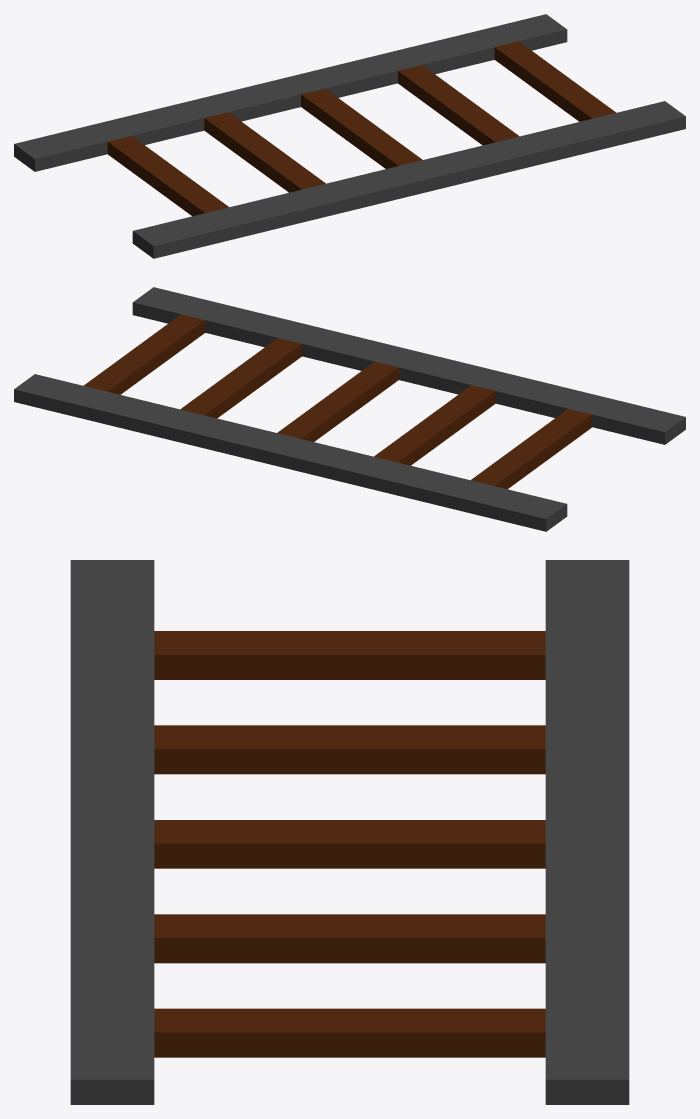
File: trilho-0.obj
The picture shows the model from 3 angles, top to bottom: view 1: azimuth 30°, elevation 25°; view 2: azimuth 150°, elevation 25°; view 3: azimuth 270°, elevation 25°; orthographic projection. The views are drawn at different scales.
Size of the model in its own units: 4.4 by 0.1 by 2.
1 material, 1 textured.
